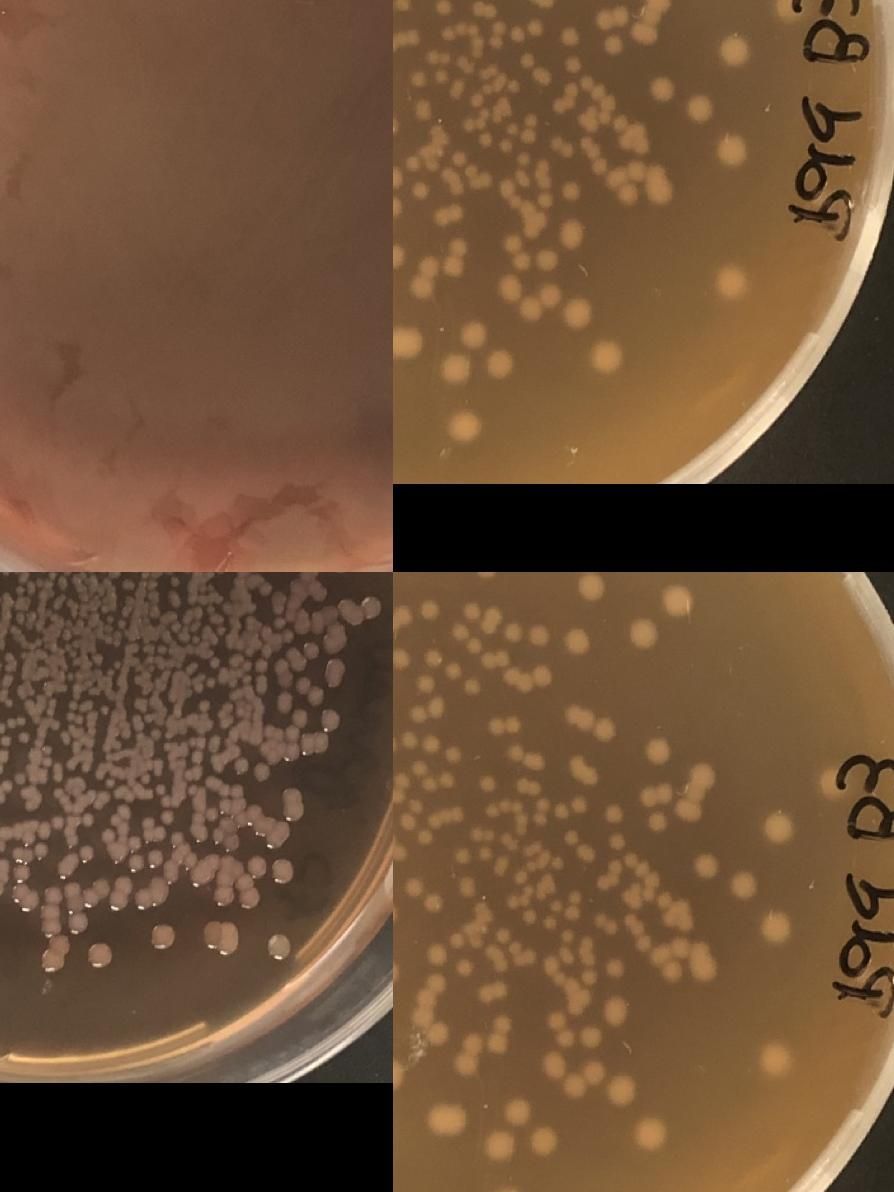pddamselae: (410, 238, 470, 298), (454, 1014, 514, 1074), (484, 774, 550, 827), (440, 0, 505, 50), (450, 620, 512, 668), (410, 972, 450, 1046), (676, 764, 718, 824), (393, 795, 426, 860), (578, 73, 618, 126), (622, 850, 662, 903), (460, 91, 494, 148), (504, 868, 538, 925), (632, 0, 673, 46), (541, 886, 583, 929), (497, 110, 539, 152), (565, 705, 615, 740), (562, 1060, 608, 1098), (518, 284, 564, 320), (412, 758, 457, 794), (503, 662, 554, 693), (578, 132, 610, 178), (622, 910, 654, 954), (502, 232, 530, 272), (408, 696, 448, 724), (546, 1008, 574, 1048), (466, 825, 496, 862), (518, 51, 551, 84), (562, 828, 594, 861), (422, 48, 451, 84), (418, 810, 445, 848), (510, 15, 546, 43), (554, 792, 590, 820), (535, 156, 554, 208), (579, 934, 598, 986), (393, 195, 406, 269), (574, 572, 607, 601), (434, 1106, 463, 1136), (503, 1098, 532, 1128), (442, 354, 470, 385), (486, 349, 514, 380), (460, 320, 488, 350), (564, 298, 592, 328), (594, 343, 622, 373), (486, 1132, 514, 1162), (530, 1126, 558, 1156), (564, 626, 592, 656), (608, 1074, 636, 1104), (638, 1120, 666, 1150), (665, 586, 693, 616), (595, 7, 631, 30), (639, 784, 675, 807), (511, 149, 531, 190), (555, 926, 575, 967), (630, 618, 658, 647), (450, 412, 477, 442), (393, 329, 418, 359), (487, 716, 524, 736), (480, 604, 503, 636), (590, 910, 618, 936), (546, 134, 574, 158), (818, 774, 846, 798), (424, 943, 450, 968), (763, 916, 789, 941), (766, 815, 792, 840), (498, 276, 524, 300), (534, 246, 560, 270), (560, 221, 586, 245), (652, 77, 678, 101), (688, 95, 714, 119), (718, 270, 744, 294), (719, 140, 745, 164), (722, 38, 748, 62), (542, 1054, 568, 1078), (578, 1023, 604, 1047), (604, 998, 630, 1022), (646, 738, 672, 762), (696, 854, 722, 878), (732, 872, 758, 896), (762, 1047, 788, 1071), (393, 605, 415, 633), (393, 771, 411, 804), (774, 0, 801, 20), (446, 202, 466, 224), (561, 178, 581, 200), (626, 158, 646, 180), (490, 979, 510, 1001), (605, 955, 625, 977), (670, 936, 690, 958), (417, 672, 437, 693), (619, 182, 638, 204), (664, 960, 683, 982), (603, 33, 623, 53), (400, 730, 420, 750), (402, 877, 422, 897), (420, 598, 440, 618), (422, 734, 442, 754), (424, 894, 444, 914), (457, 874, 477, 894), (505, 742, 525, 762), (647, 810, 667, 830), (444, 742, 463, 763), (559, 28, 578, 48), (564, 54, 583, 74), (444, 659, 463, 679), (455, 845, 475, 864), (462, 600, 481, 620), (477, 773, 497, 792), (502, 622, 521, 642), (604, 805, 623, 825), (607, 831, 626, 851), (426, 646, 444, 667), (461, 677, 480, 696), (411, 68, 431, 86), (414, 97, 432, 117), (530, 624, 548, 644), (393, 647, 410, 667), (450, 148, 468, 166), (448, 931, 466, 949), (494, 925, 512, 943), (393, 166, 406, 190), (404, 154, 421, 172), (463, 162, 480, 180), (504, 76, 521, 94), (548, 853, 565, 871), (393, 33, 401, 71), (508, 940, 525, 957), (433, 0, 453, 14), (393, 1059, 402, 1089), (393, 901, 400, 925), (393, 117, 399, 137), (393, 733, 397, 753)
vharveyi: (93, 874, 134, 910), (274, 690, 310, 729), (293, 674, 328, 709), (41, 936, 72, 972), (232, 755, 272, 782), (0, 713, 27, 748), (34, 819, 53, 863), (86, 941, 114, 967), (149, 922, 175, 949), (267, 933, 293, 959), (270, 856, 296, 882), (318, 706, 344, 732), (358, 594, 384, 620), (284, 787, 302, 821), (222, 829, 242, 854), (302, 637, 322, 662), (43, 885, 63, 906), (157, 805, 177, 826), (104, 613, 128, 630), (69, 912, 89, 932), (97, 825, 117, 845), (134, 888, 154, 908), (214, 886, 234, 906), (239, 888, 259, 908), (246, 854, 266, 874), (105, 657, 124, 677), (78, 844, 96, 864), (79, 810, 99, 828), (196, 698, 214, 711), (142, 711, 156, 725), (168, 575, 184, 587), (18, 730, 31, 744), (121, 579, 136, 591), (2, 779, 14, 793), (14, 770, 26, 784), (99, 703, 111, 717), (121, 726, 133, 740), (140, 771, 152, 785), (150, 727, 162, 741), (156, 782, 168, 796), (204, 675, 216, 689), (209, 655, 221, 669), (214, 624, 228, 636), (15, 583, 28, 595), (64, 670, 76, 682), (67, 698, 79, 710), (156, 644, 168, 656), (190, 633, 202, 645), (204, 602, 216, 614), (171, 620, 182, 632), (300, 572, 319, 578), (48, 572, 60, 581)
